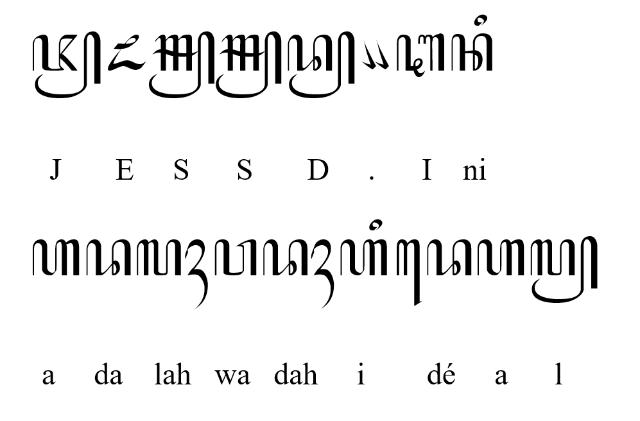-S: (148, 31, 216, 99), (214, 30, 282, 98)
-d: (286, 30, 356, 99)
-j: (32, 31, 102, 99)
-l: (530, 235, 598, 303)
E: (107, 33, 147, 70)
I: (396, 32, 444, 78)
_h1: (185, 238, 209, 310), (310, 238, 334, 309)
d: (86, 238, 132, 278), (426, 238, 472, 276), (262, 240, 308, 277)
e1: (396, 239, 422, 307)
h: (32, 239, 80, 277), (340, 239, 388, 277), (477, 239, 525, 277)
i: (474, 13, 488, 26), (369, 219, 383, 231)
kom: (374, 38, 390, 70), (361, 40, 377, 70)
l: (136, 239, 182, 277)
n: (451, 33, 494, 71)
w: (215, 239, 258, 277)
